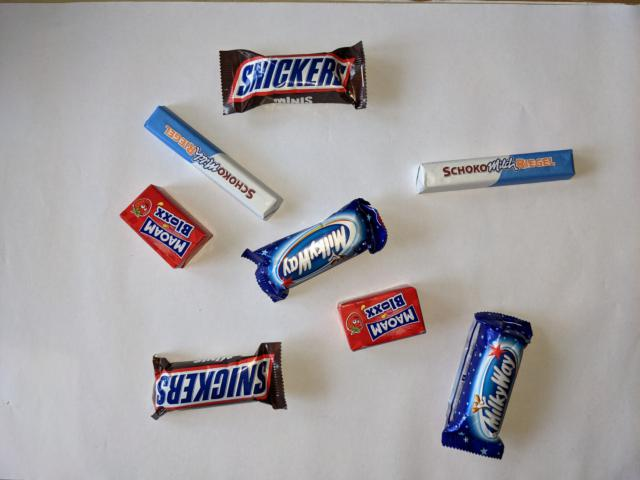MAOAM: (117, 181, 216, 272), (334, 283, 428, 354)
MilkyWay: (238, 196, 391, 306), (437, 309, 536, 463)
Schokoriegel: (140, 102, 288, 225), (406, 146, 579, 199)
Snickers: (215, 37, 371, 120), (146, 339, 290, 424)
